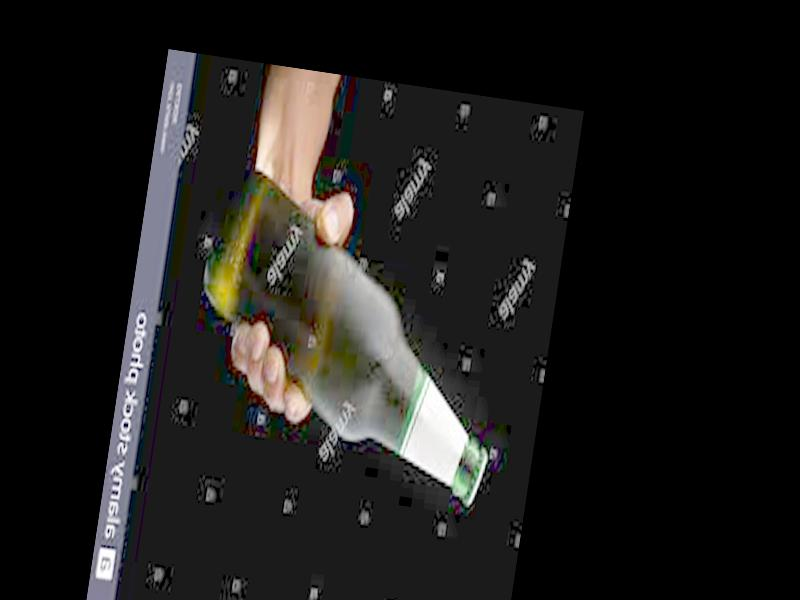Beer: (172, 164, 526, 510)
